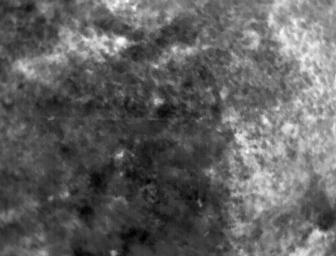landmine: (116, 149, 126, 159)
